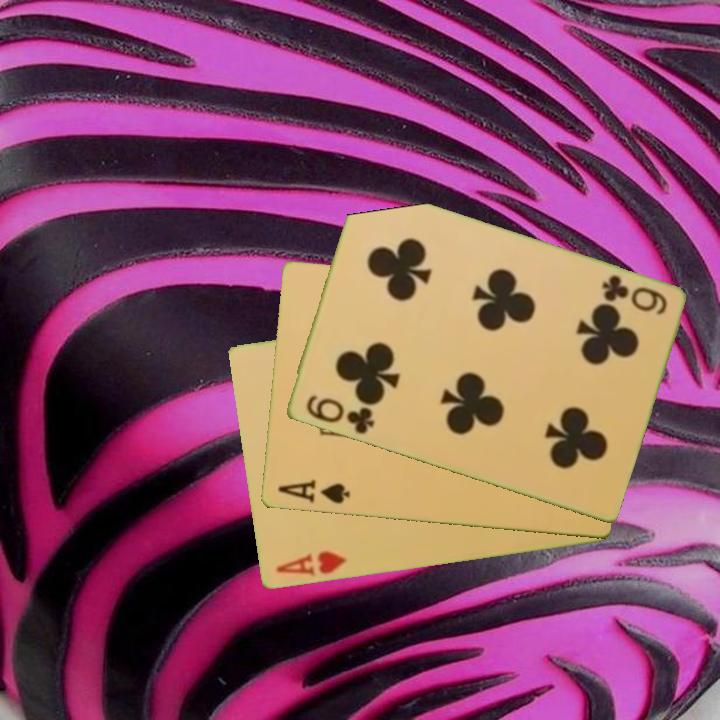6c: (597, 271, 670, 319), (302, 392, 377, 438)
Ah: (272, 547, 349, 580)
As: (274, 477, 352, 507)
